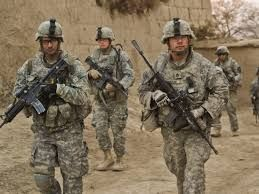gun: (131, 38, 220, 161), (2, 60, 71, 127), (85, 50, 128, 103)
uniform: (147, 48, 216, 188), (23, 52, 84, 187), (88, 44, 133, 159)
